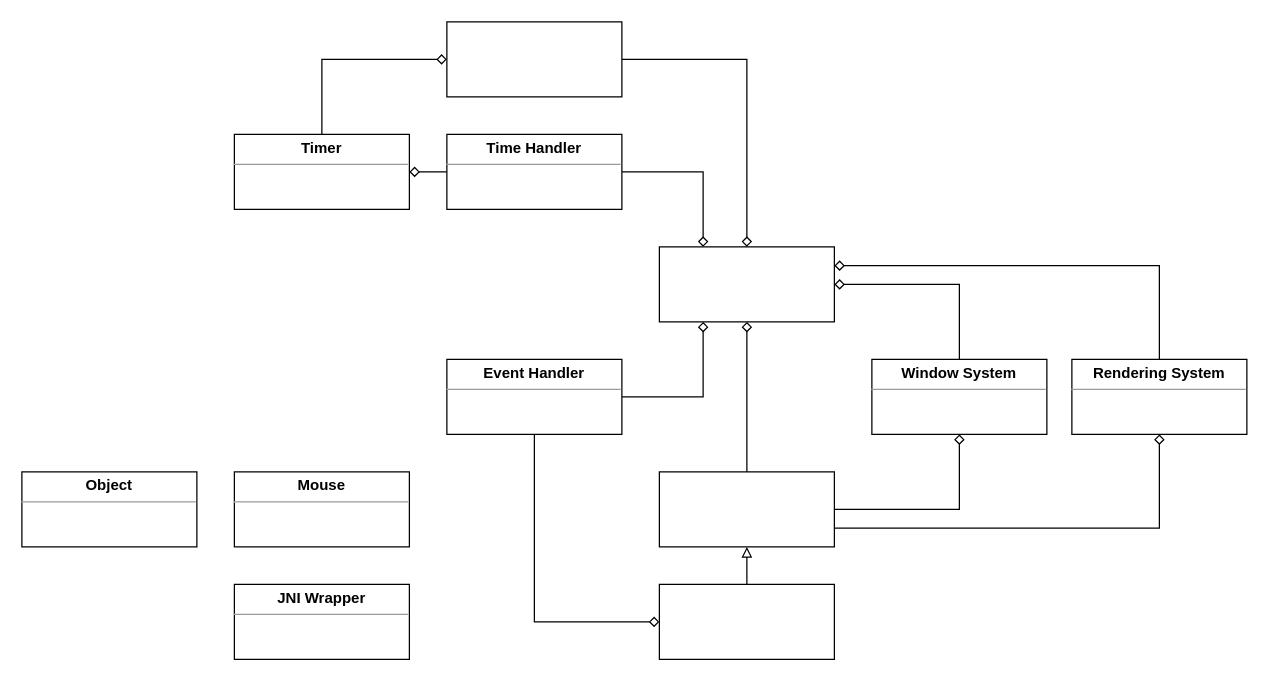
Some shapes in this 1269 by 681 pixel diagram are drawn without their labels. Each missing label, with the box of its shape:
API Wrapper: (658, 471, 834, 547)
Core: (658, 246, 834, 322)
Diagnostic: (446, 21, 622, 97)
Win32 API Wrapper: (658, 583, 834, 659)
